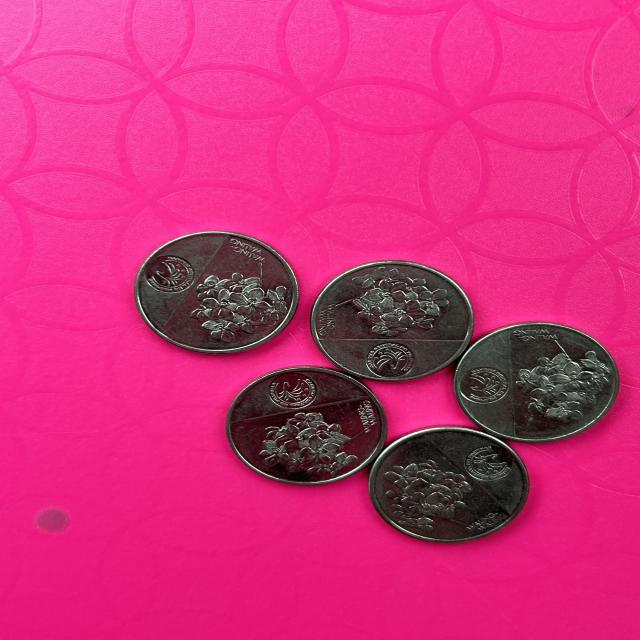1_New_Back: (511, 341, 606, 421), (195, 269, 297, 335), (385, 456, 477, 527), (346, 270, 444, 336), (250, 414, 350, 473)
